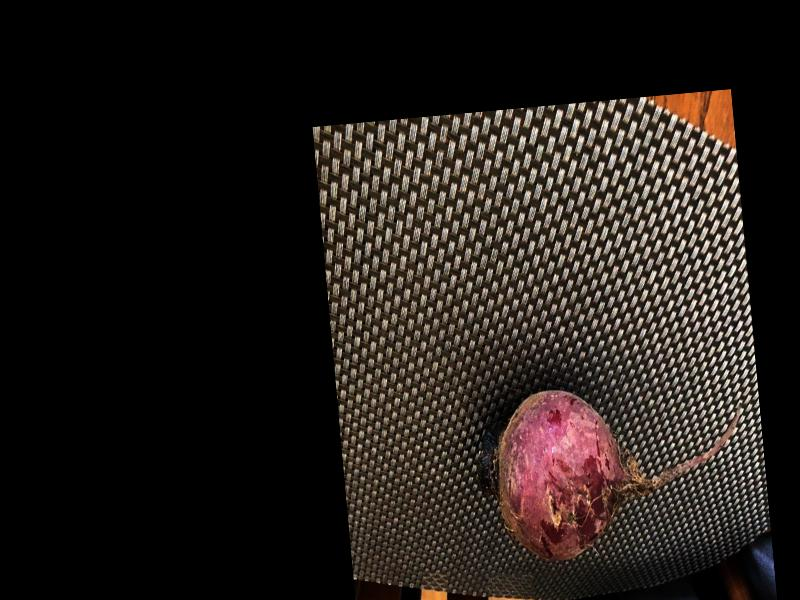Beet: (467, 374, 749, 569)
